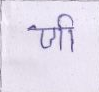i_matra: (60, 13, 77, 52)
